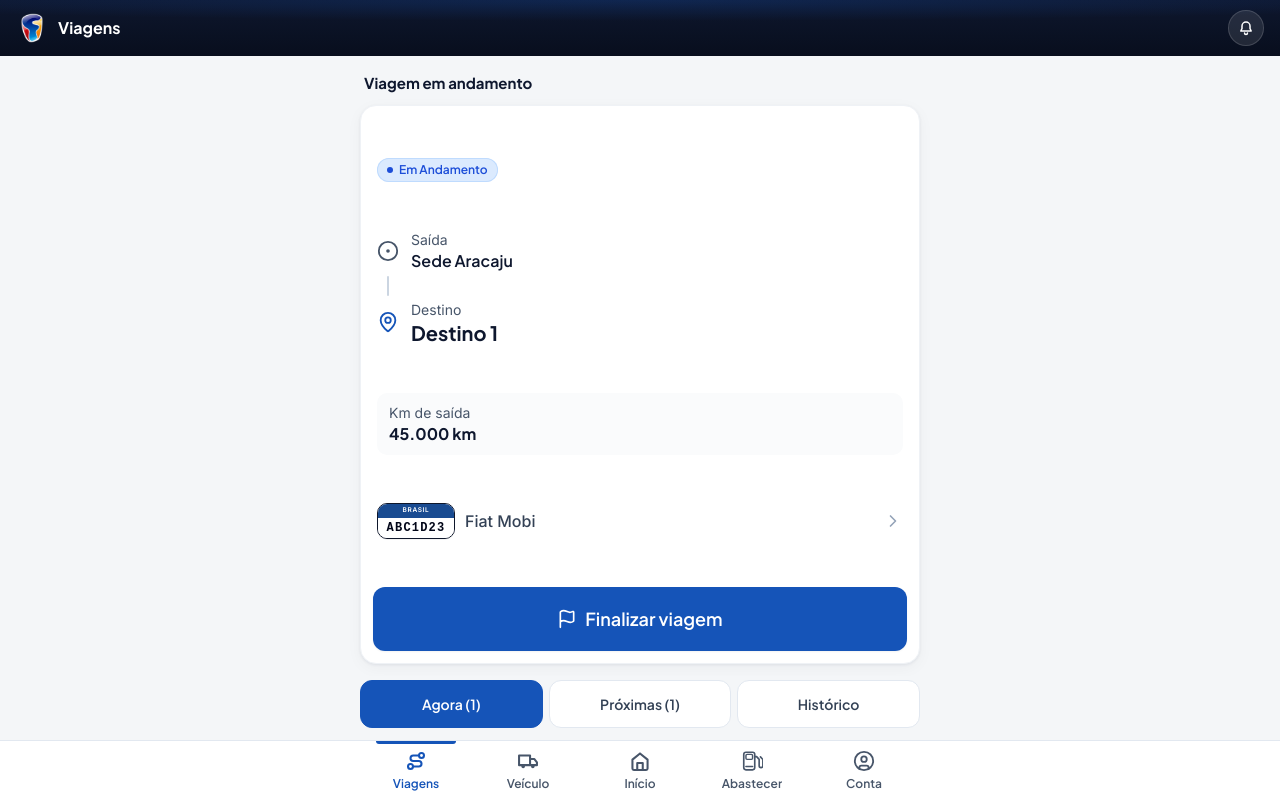
Test: Início e Viagens › finaliza e volta a mostrar o momento atual
Click the button "Agora (1)" at (451, 704), box [360, 680, 543, 728]
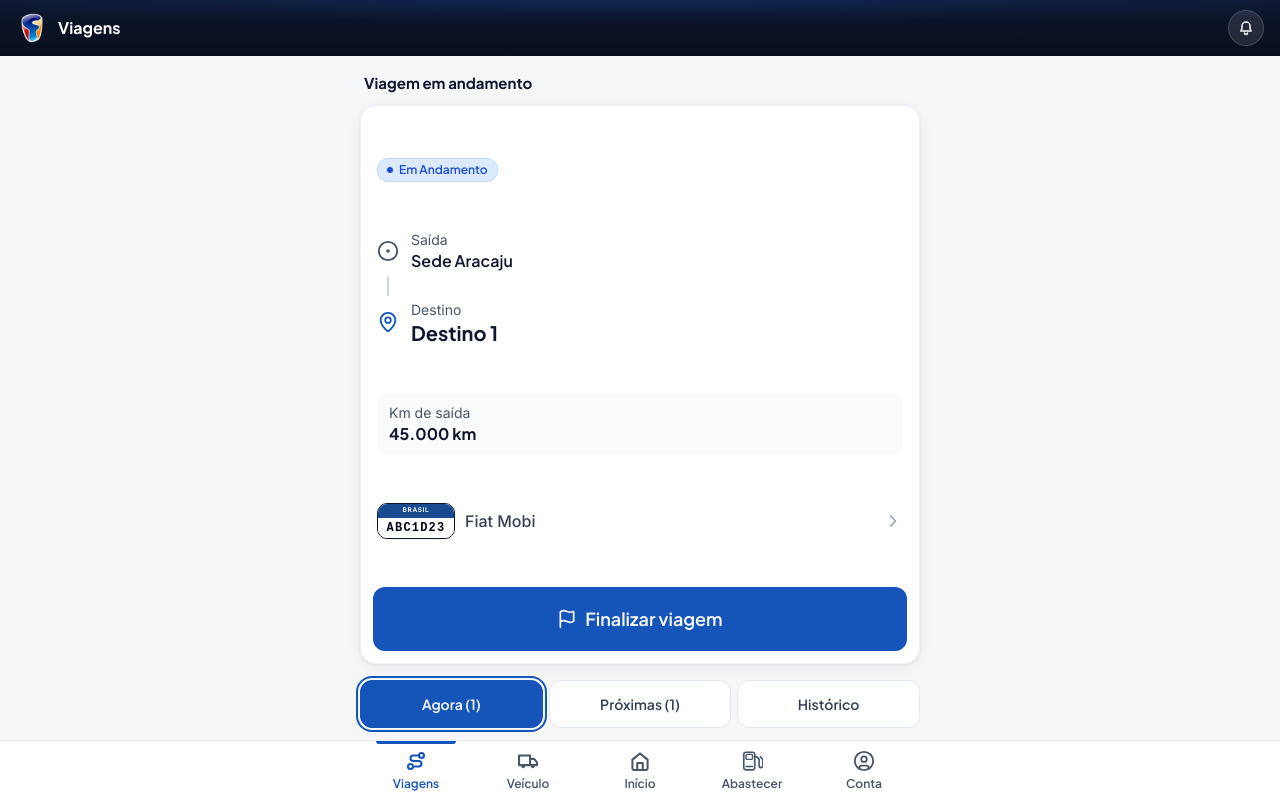
Click the button "Finalizar viagem" at (640, 619), box [373, 587, 907, 651]
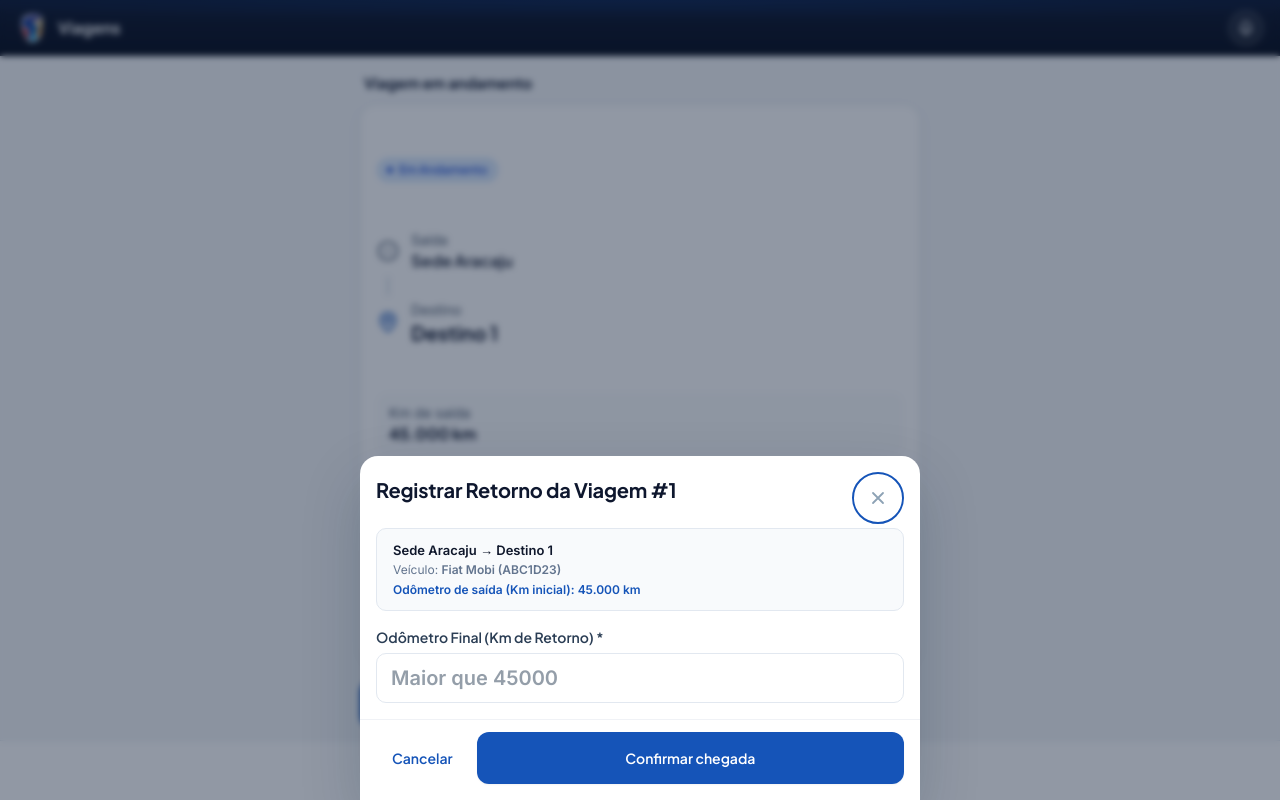
Type "45020" into the number field with placeholder "Maior que 45000" at (640, 678), box [376, 653, 904, 703]
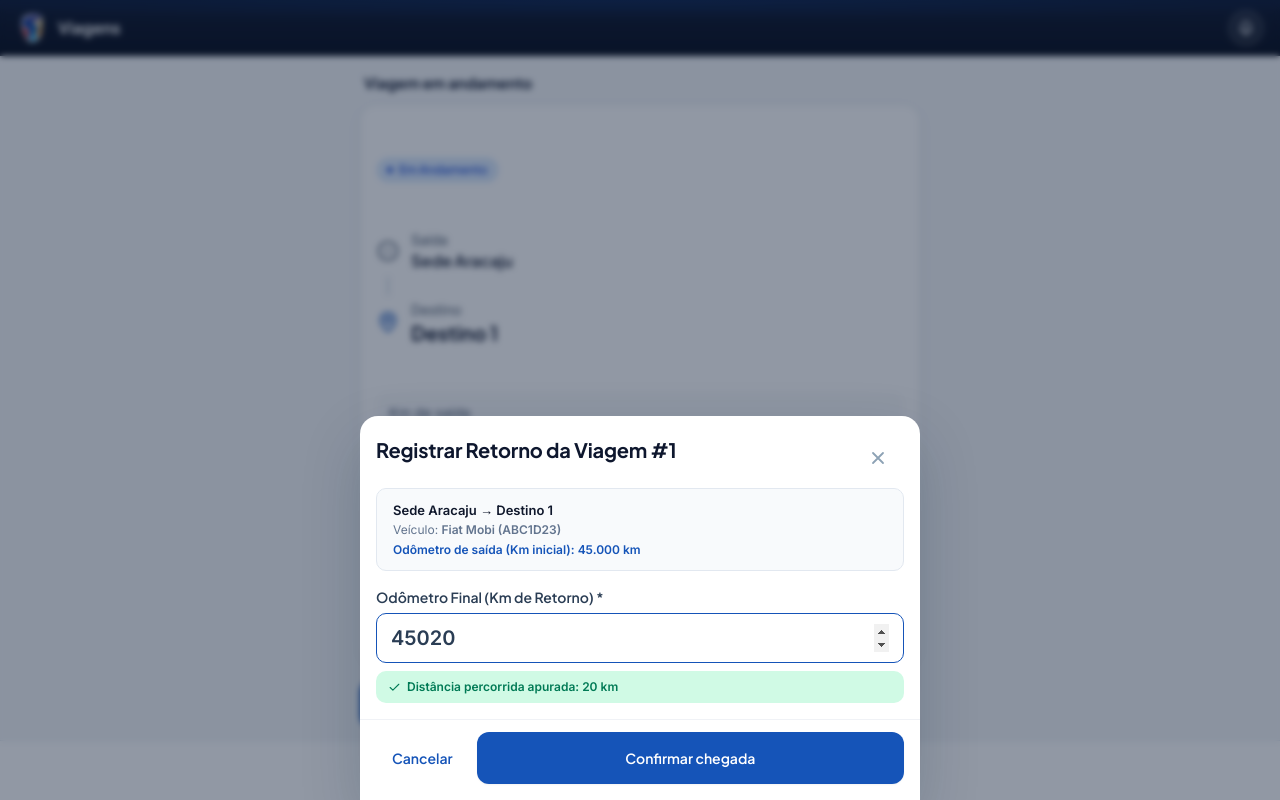
Click the button "Confirmar chegada" at (690, 758), box [477, 732, 904, 784]
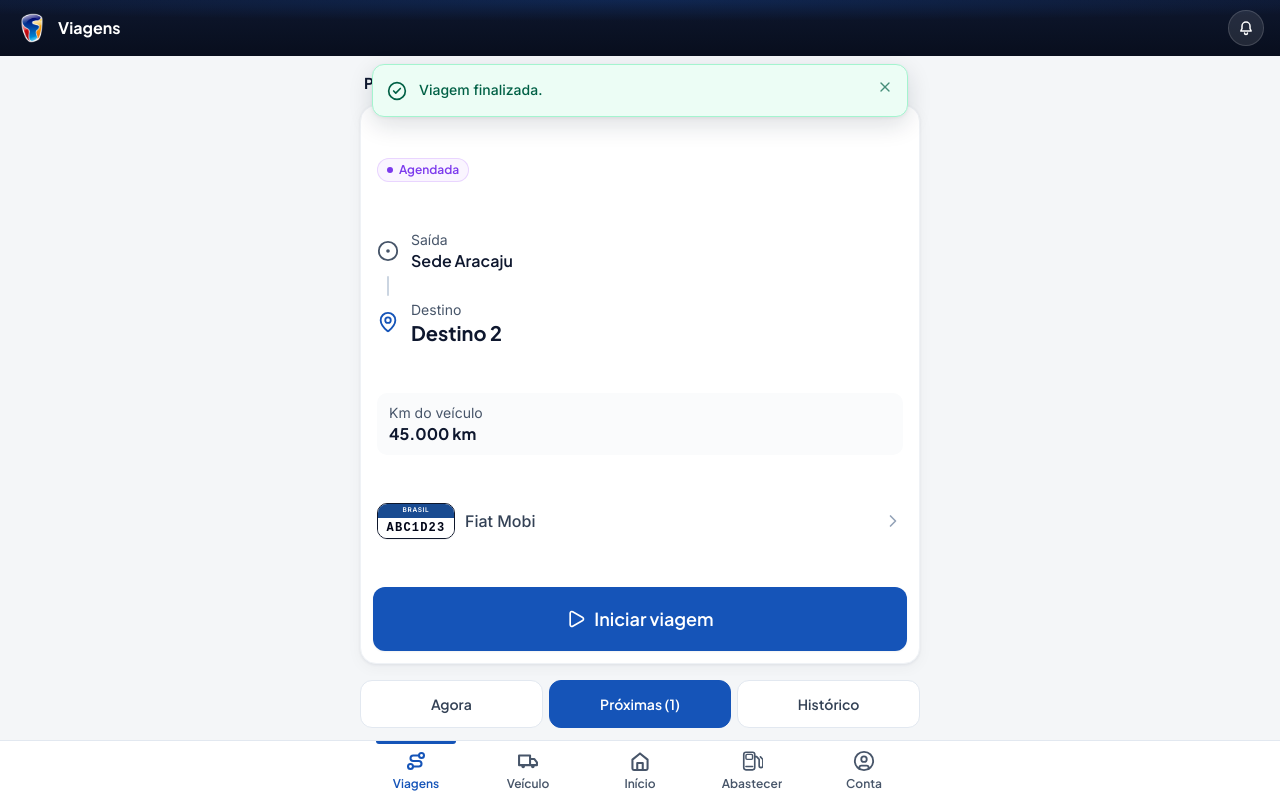
Now the button "Iniciar viagem" is shown, box [373, 587, 907, 651]
